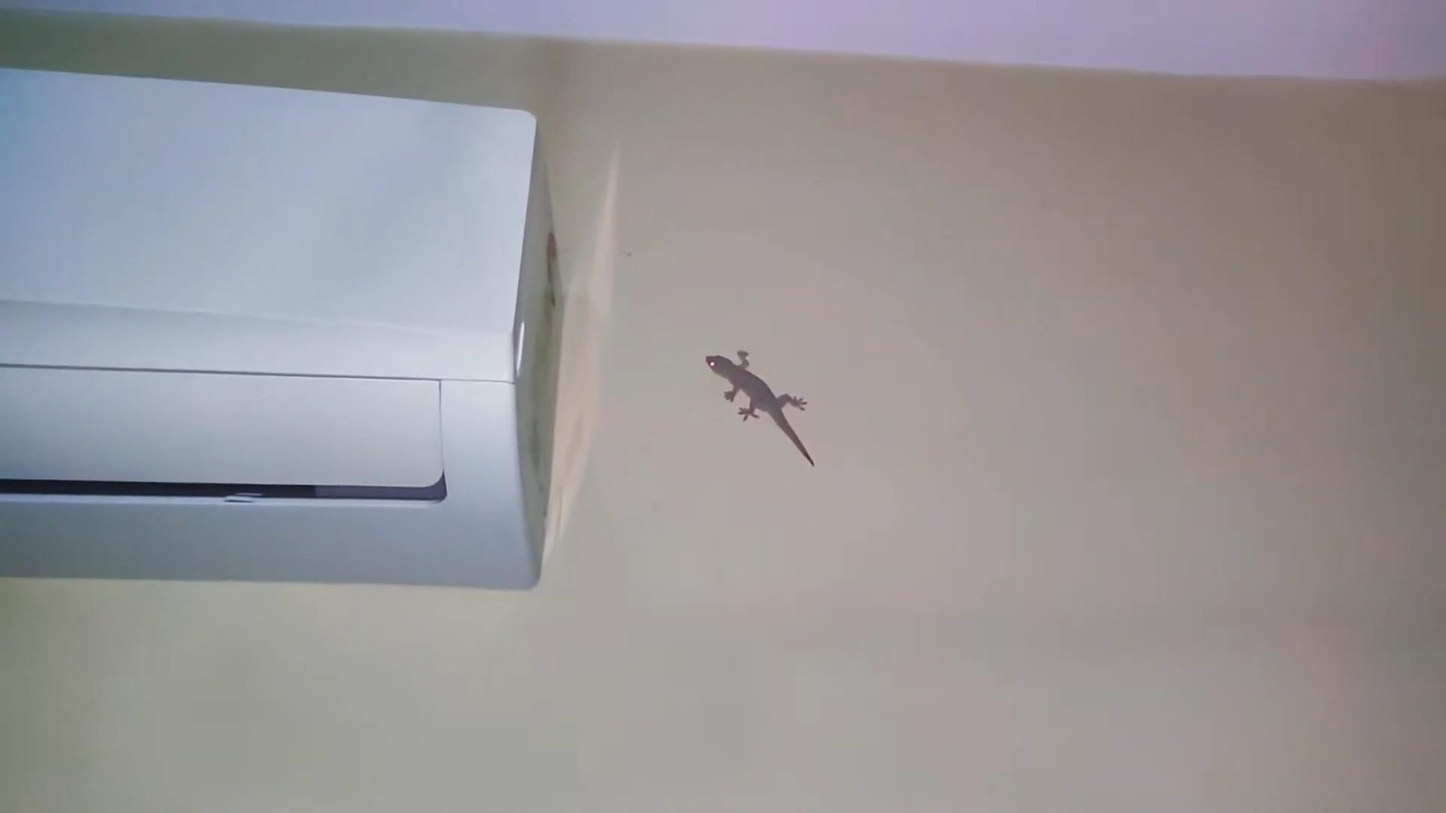lizard: (697, 333, 832, 483)
